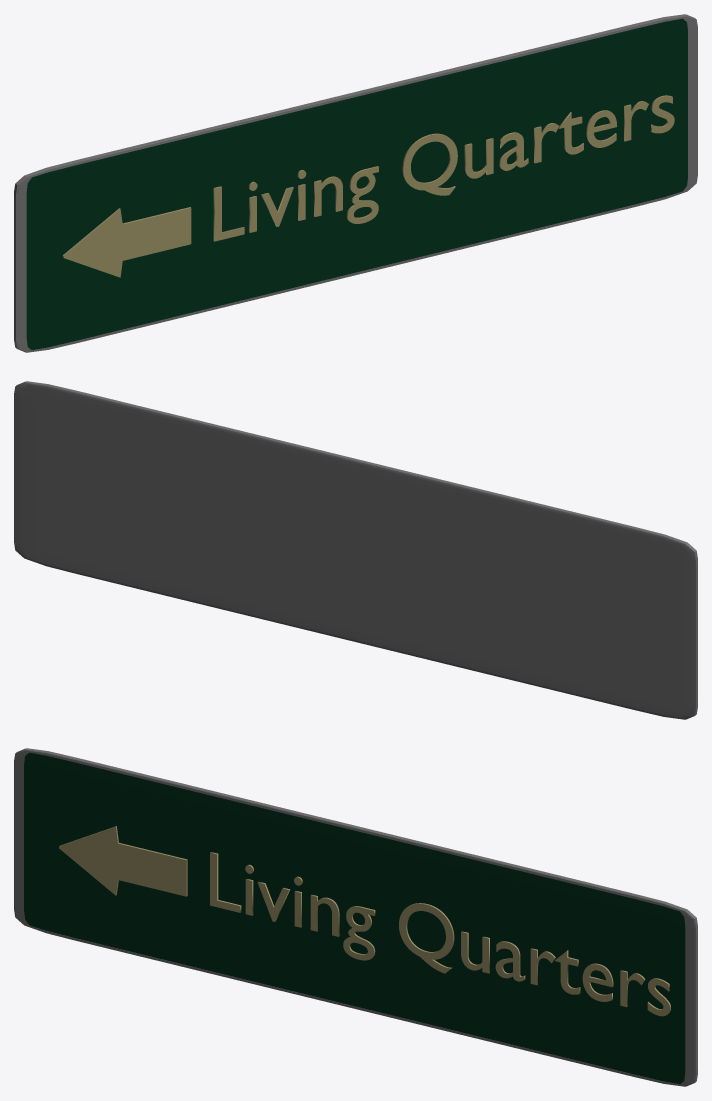
Rendered from living quarters Signs.fbx.
3 renders of one model, top to bottom at view 1: azimuth 30°, elevation 25°; view 2: azimuth 150°, elevation 25°; view 3: azimuth 330°, elevation 25°, orthographic.
Visible parts, largest first — view 1: Cube.001, Text.002, Cube.003; view 2: Cube.001; view 3: Cube.001, Text.002, Cube.003.
Boxes of the visible parts, bbox=[...] form: Cube.001: bbox=[14, 14, 697, 352]; Text.002: bbox=[213, 95, 674, 241]; Cube.003: bbox=[62, 207, 191, 277]; Cube.001: bbox=[14, 381, 697, 719]; Cube.001: bbox=[14, 748, 697, 1086]; Text.002: bbox=[210, 852, 670, 1016]; Cube.003: bbox=[59, 826, 187, 896].
Bounding box in the file's own units: 1504 × 382 × 14.14.
